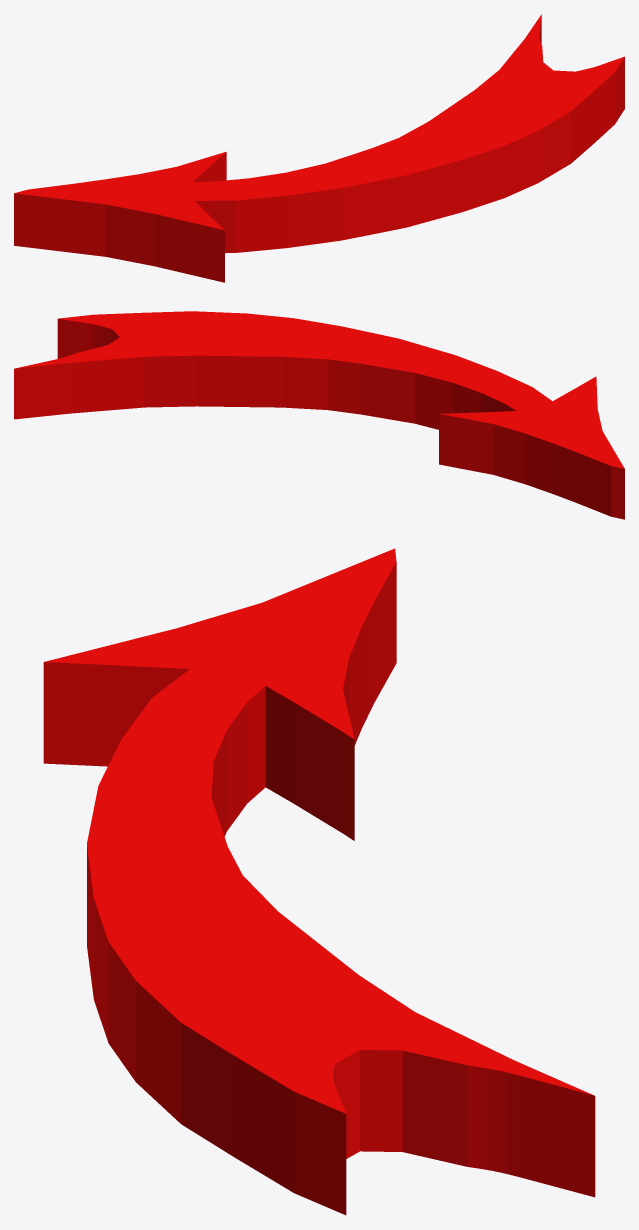
File: flecha curva.FBX
3 views of the same model, one above another, from view 1: azimuth 30°, elevation 25°; view 2: azimuth 150°, elevation 25°; view 3: azimuth 270°, elevation 25° (orthographic). The views are drawn at different scales.
Visible parts, largest first — view 1: Line002; view 2: Line002; view 3: Line002.
Boxes of the visible parts, x1,y1,x2,y2 form: Line002: (14,14,624,282); Line002: (14,311,624,519); Line002: (43,548,595,1215).
Bounding box in the file's own units: 165 × 13.78 × 67.78.
